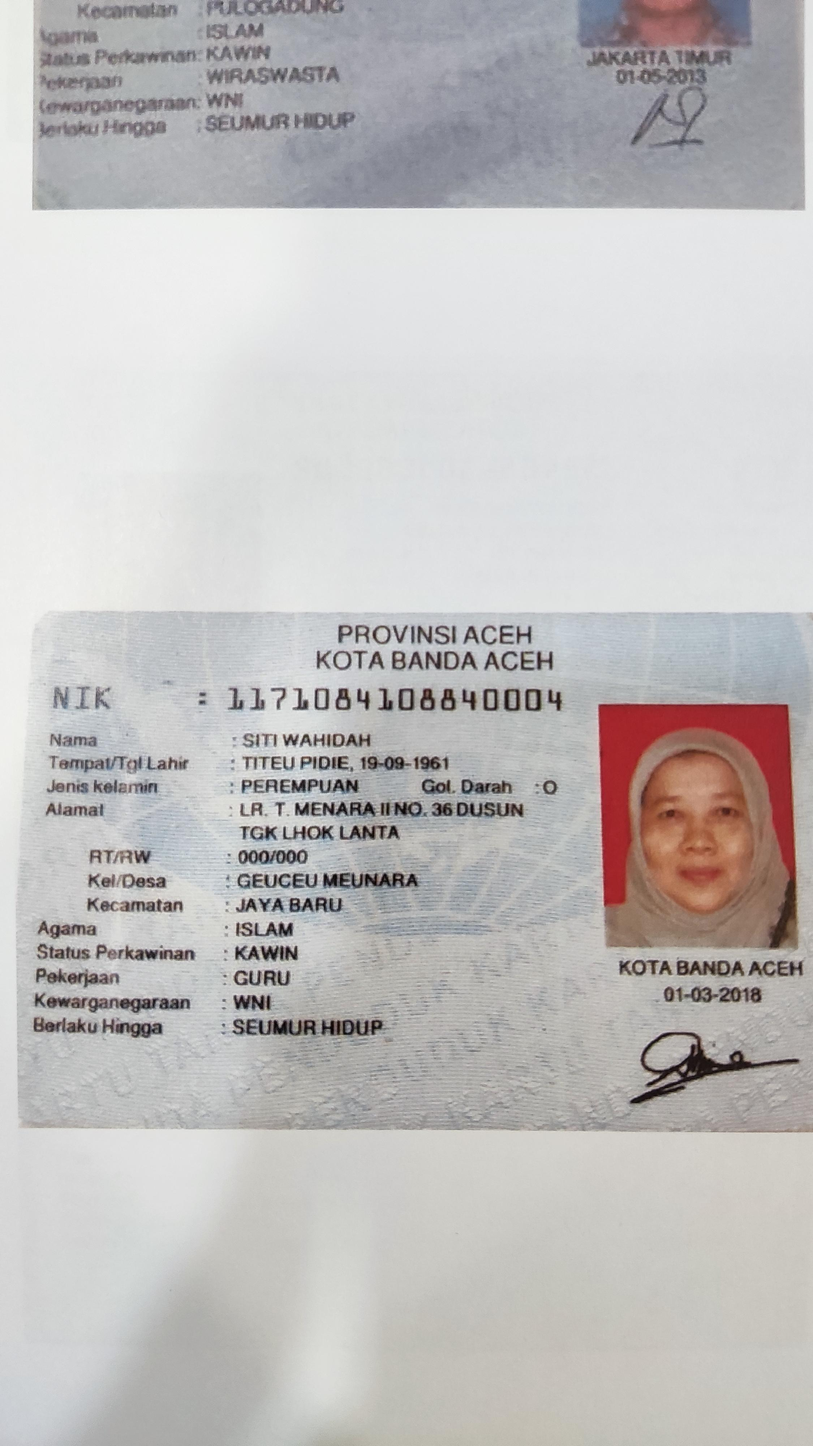ID-card: (16, 610, 808, 1132)
